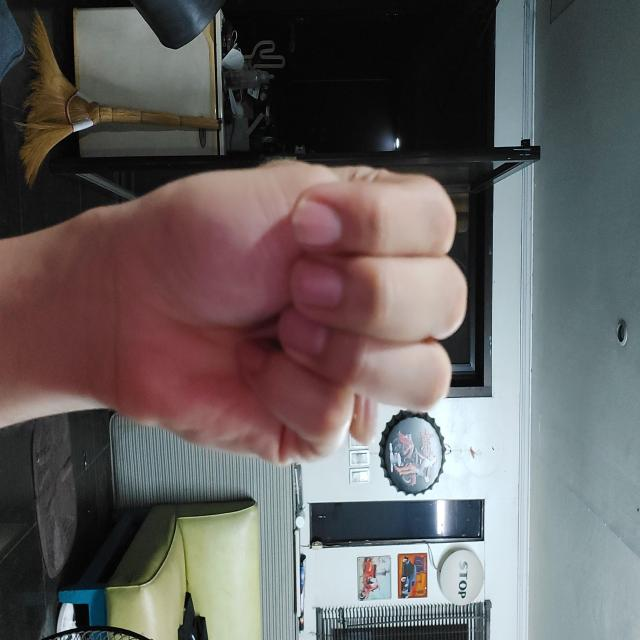M: (158, 170, 466, 526)
